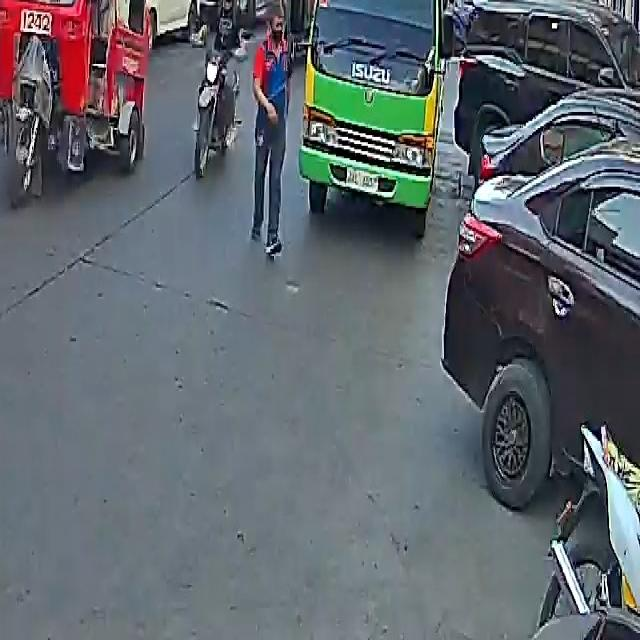car: (443, 149, 640, 511), (450, 0, 640, 185), (117, 0, 202, 46), (196, 0, 276, 27)
